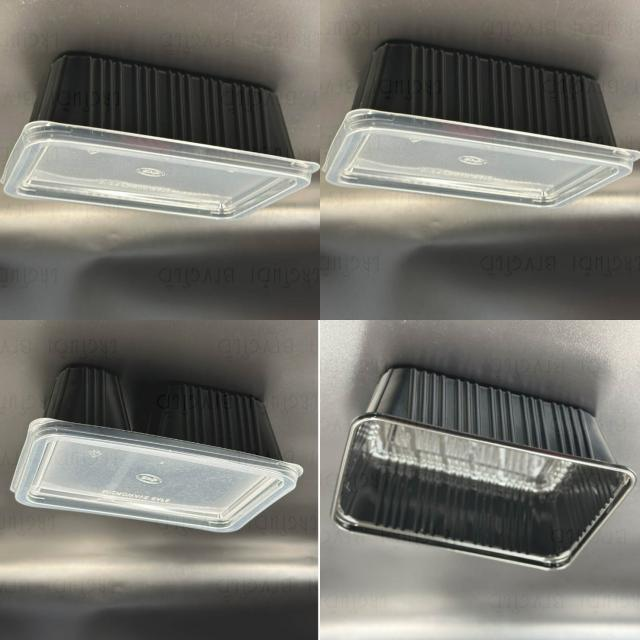Single-Use-Plastic: (332, 368, 636, 569), (2, 52, 319, 219), (324, 41, 640, 208), (11, 365, 302, 532)
